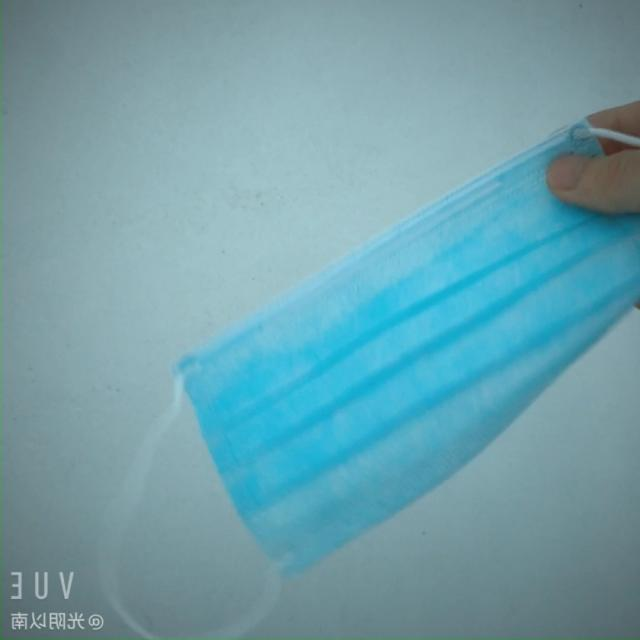face mask: (162, 110, 640, 558)
